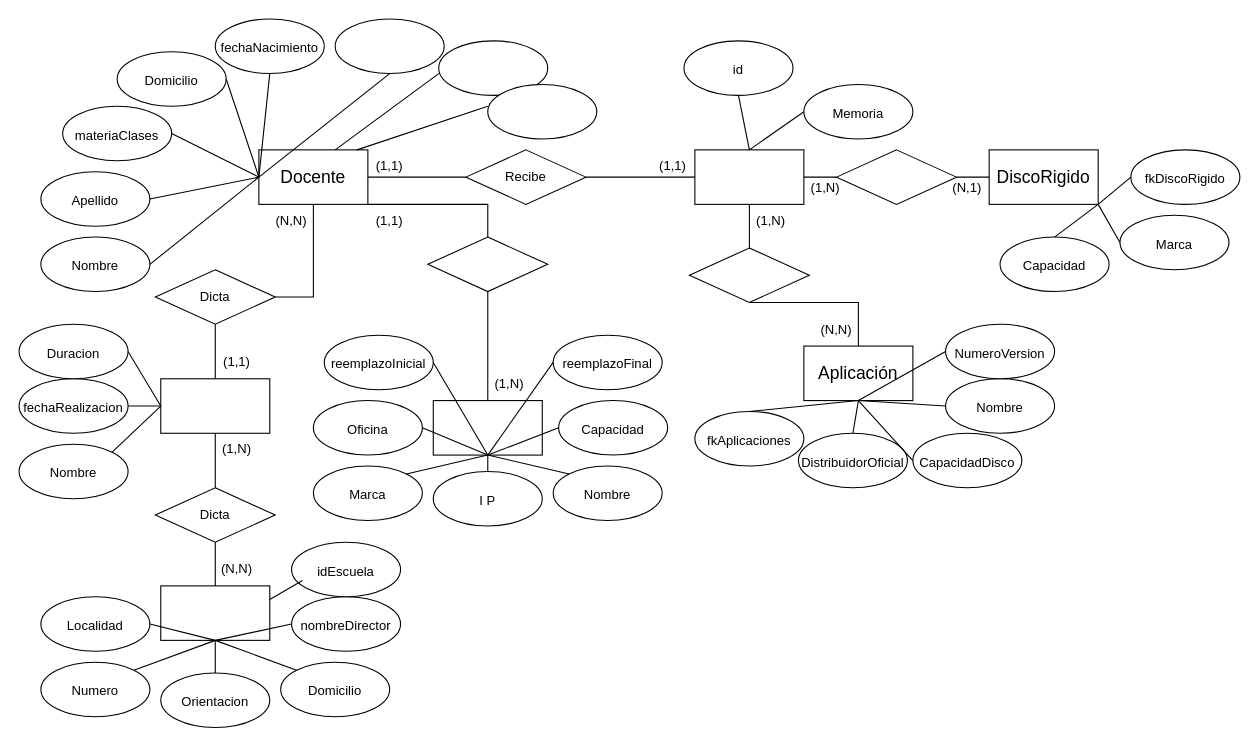
The diagram is 1259 pixels wide and 747 high, and some of its shapes have lost their labels. The box of each missing label's shape, as (x1, y1, x2, y2) in pixels:
Computadora: (694, 149, 804, 204)
Conecta: (427, 236, 548, 292)
Contiene: (835, 149, 956, 204)
Dni: (334, 18, 444, 74)
Escuela: (160, 585, 270, 640)
fkComputadora: (487, 83, 597, 139)
fkEscuela: (438, 40, 548, 95)
Servidor: (432, 399, 542, 455)
Taller: (160, 378, 270, 433)
Tiene: (688, 247, 809, 302)
